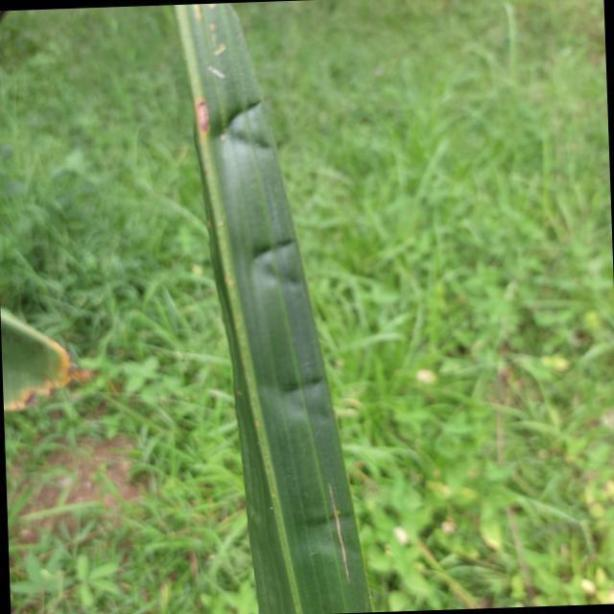Boron: (162, 0, 374, 614)
